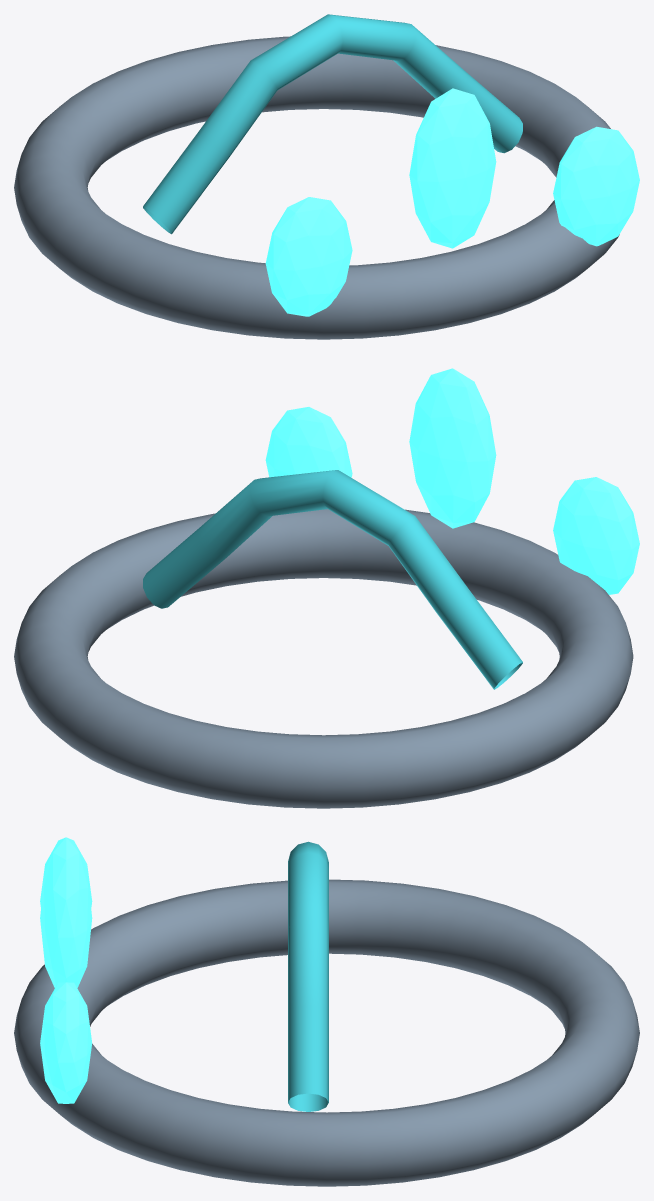
File: crown_v2.glb
3 renders of one model, top to bottom at view 1: azimuth 30°, elevation 25°; view 2: azimuth 150°, elevation 25°; view 3: azimuth 270°, elevation 25°, orthographic.
Parts seen in each view (by area): view 1: ROYAL_CIRCLET_PRIMARY, CIRCLET_ARCH_ACCENT, CIRCLET_GEM_EMISSIVE.001, CIRCLET_GEM_EMISSIVE, CIRCLET_GEM_EMISSIVE.002; view 2: ROYAL_CIRCLET_PRIMARY, CIRCLET_ARCH_ACCENT, CIRCLET_GEM_EMISSIVE.001, CIRCLET_GEM_EMISSIVE, CIRCLET_GEM_EMISSIVE.002; view 3: ROYAL_CIRCLET_PRIMARY, CIRCLET_ARCH_ACCENT, CIRCLET_GEM_EMISSIVE.001, CIRCLET_GEM_EMISSIVE.002.
Part boxes in pixels (x1,y1,x2,y2): ROYAL_CIRCLET_PRIMARY: [14, 36, 619, 339]; CIRCLET_ARCH_ACCENT: [143, 14, 522, 234]; CIRCLET_GEM_EMISSIVE.001: [409, 88, 496, 248]; CIRCLET_GEM_EMISSIVE: [265, 197, 352, 316]; CIRCLET_GEM_EMISSIVE.002: [553, 126, 639, 246]; ROYAL_CIRCLET_PRIMARY: [14, 509, 633, 808]; CIRCLET_ARCH_ACCENT: [143, 470, 522, 689]; CIRCLET_GEM_EMISSIVE.001: [409, 368, 496, 528]; CIRCLET_GEM_EMISSIVE: [553, 477, 639, 594]; CIRCLET_GEM_EMISSIVE.002: [265, 407, 352, 477]; ROYAL_CIRCLET_PRIMARY: [14, 879, 639, 1186]; CIRCLET_ARCH_ACCENT: [288, 841, 328, 1111]; CIRCLET_GEM_EMISSIVE.001: [40, 837, 92, 987]; CIRCLET_GEM_EMISSIVE.002: [40, 982, 92, 1103].
Bounding box in the file's own units: 1.68 × 0.68 × 1.68.
